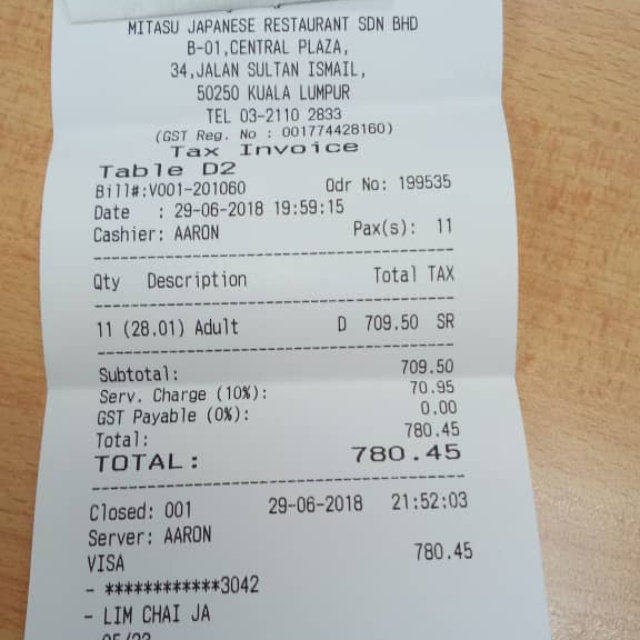invoice_table: (98, 311, 459, 340)
invoice_title: (127, 15, 420, 101)
invoice_total: (96, 444, 463, 472)
